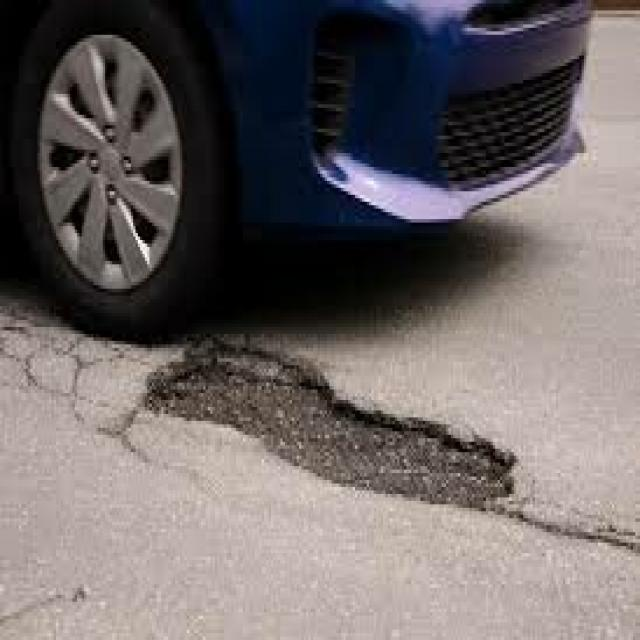Pothole: (119, 306, 551, 546)
